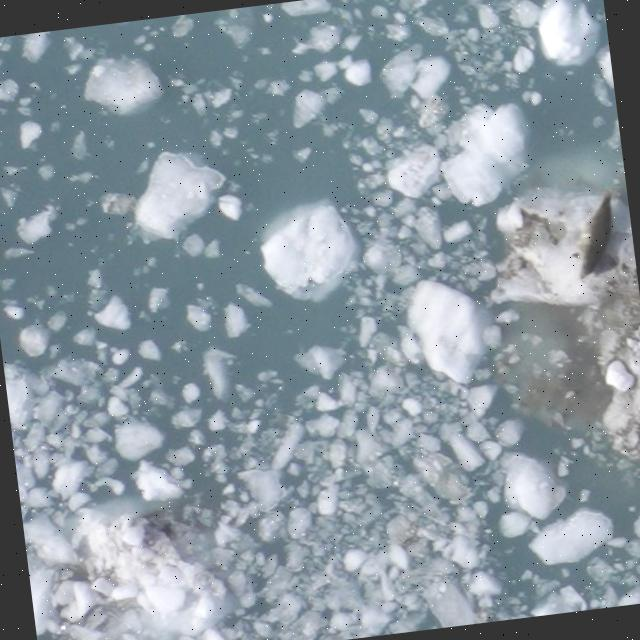seal: (572, 188, 616, 277)
